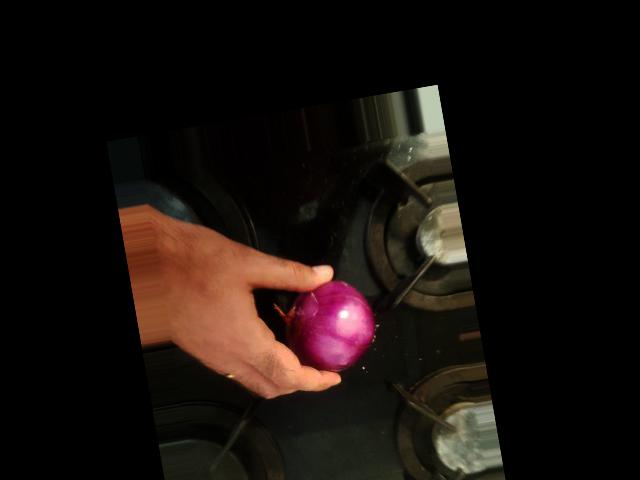onion: (338, 351, 445, 444)
